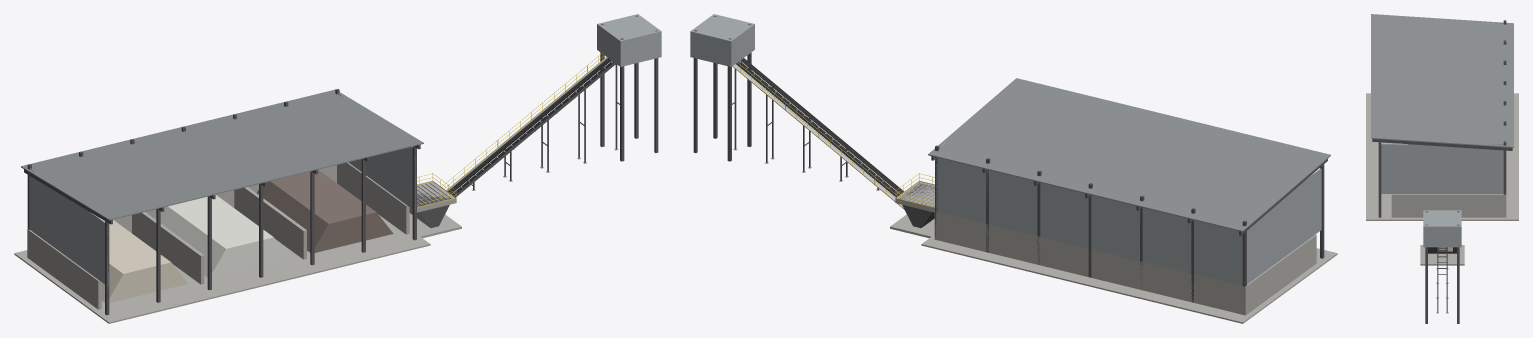
The model's file is SM_FluxStorage.fbx.
3 views of the same model, side by side, from view 1: azimuth 30°, elevation 25°; view 2: azimuth 150°, elevation 25°; view 3: azimuth 270°, elevation 25° (orthographic). The views are drawn at different scales.
Parts seen in each view (by area): view 1: FX_Building, FX_Belt_Structure, FX_Belt_Belt; view 2: FX_Building, FX_Belt_Structure, FX_Belt_Belt; view 3: FX_Building, FX_Belt_Structure.
Boxes of the visible parts, x1,y1,x2,y2 form: FX_Building: (14, 14, 661, 323); FX_Belt_Structure: (442, 53, 619, 197); FX_Belt_Belt: (448, 58, 613, 195); FX_Building: (690, 14, 1337, 323); FX_Belt_Structure: (732, 61, 904, 209); FX_Belt_Belt: (738, 58, 903, 195); FX_Building: (1366, 14, 1518, 323); FX_Belt_Structure: (1436, 247, 1452, 313).
Size of the model in its own units: 8600 by 2050 by 2400.
